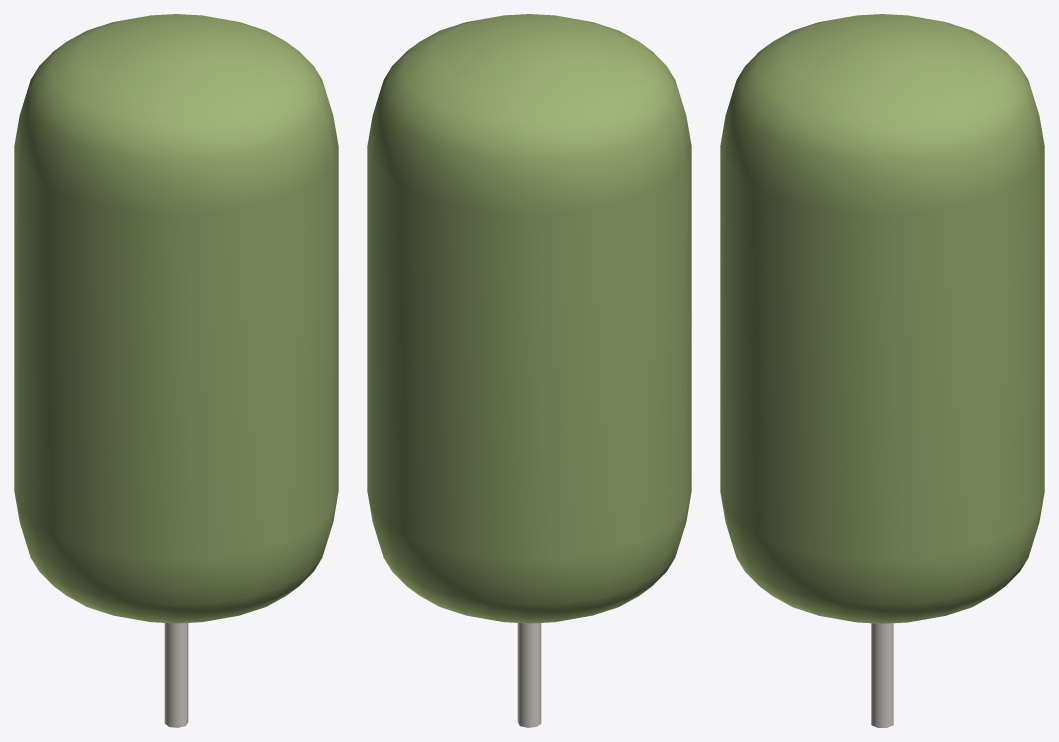
Rendered from BetulaPapyrifera.glb.
The picture shows the model from 3 angles, left to right: view 1: azimuth 30°, elevation 25°; view 2: azimuth 150°, elevation 25°; view 3: azimuth 270°, elevation 25°; orthographic projection.
Parts seen in each view (by area): view 1: Paper_Birch__Schematic_LOD3; view 2: Paper_Birch__Schematic_LOD3; view 3: Paper_Birch__Schematic_LOD3.
Boxes of the visible parts, bbox=[...] form: Paper_Birch__Schematic_LOD3: bbox=[14, 14, 338, 727]; Paper_Birch__Schematic_LOD3: bbox=[367, 14, 691, 727]; Paper_Birch__Schematic_LOD3: bbox=[720, 14, 1044, 727].
Size of the model in its own units: 9.52 by 22.07 by 9.52.
